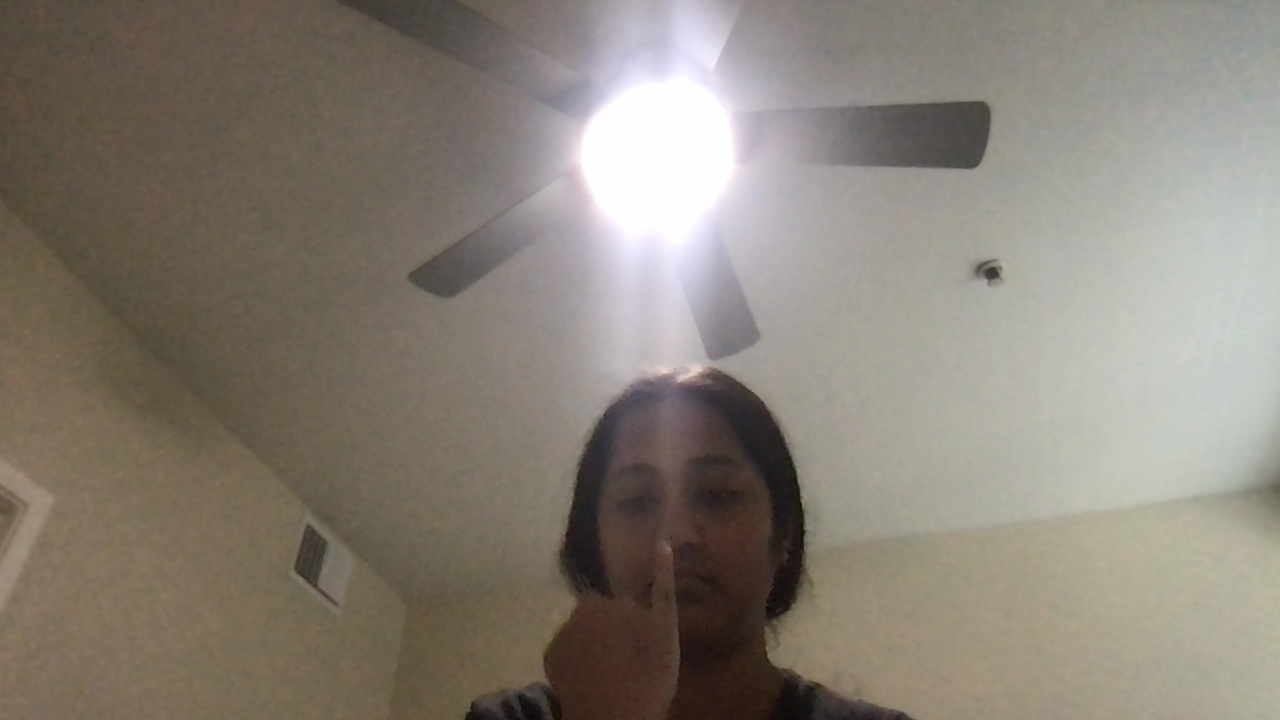j: (555, 545, 693, 701)
